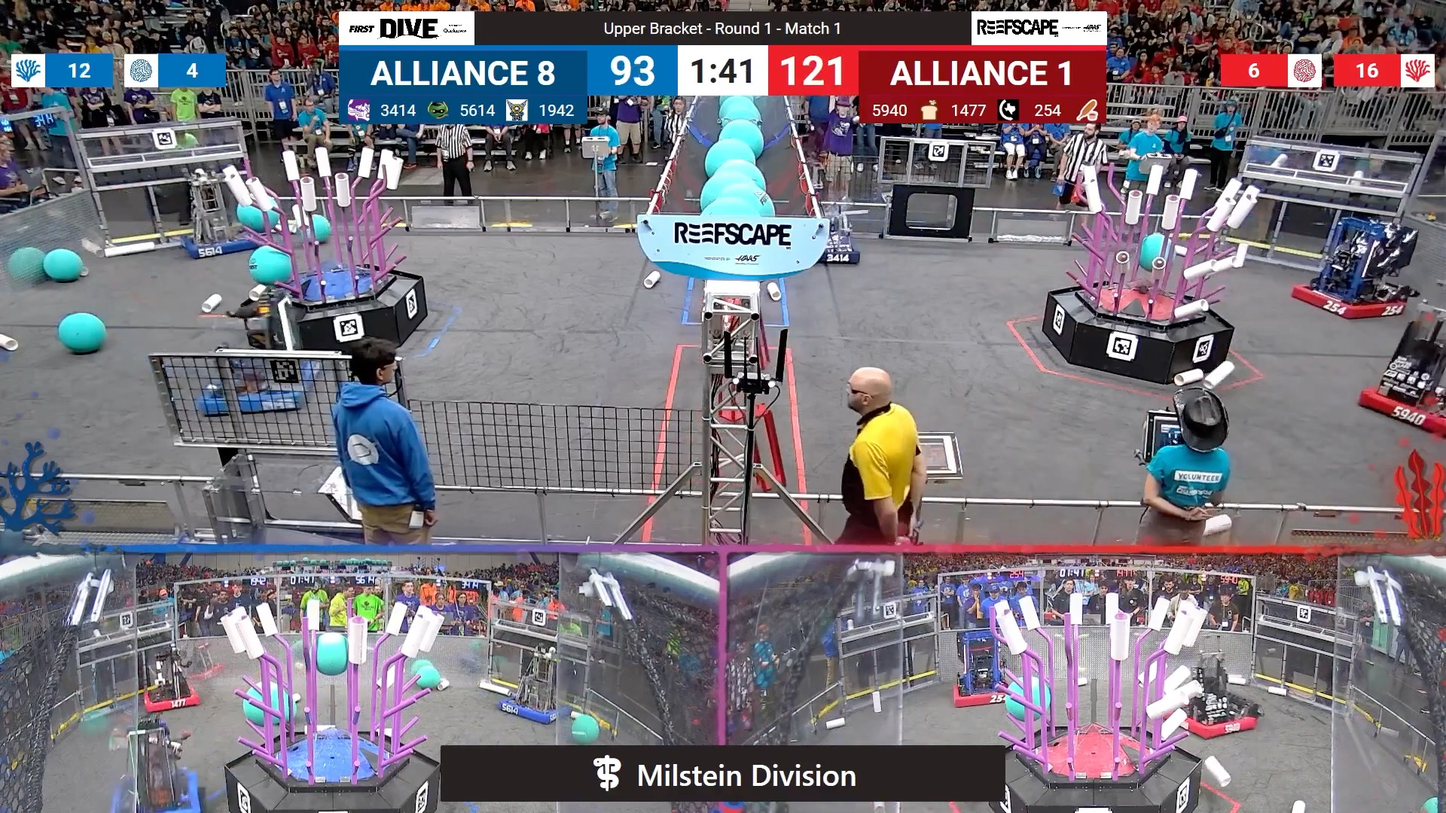bumpers: (190, 350, 312, 419), (1284, 274, 1419, 328), (1354, 374, 1446, 439), (101, 767, 213, 813), (1168, 698, 1267, 741), (179, 224, 274, 261), (946, 669, 1028, 709), (134, 677, 209, 718), (495, 693, 572, 728), (805, 237, 867, 269)
